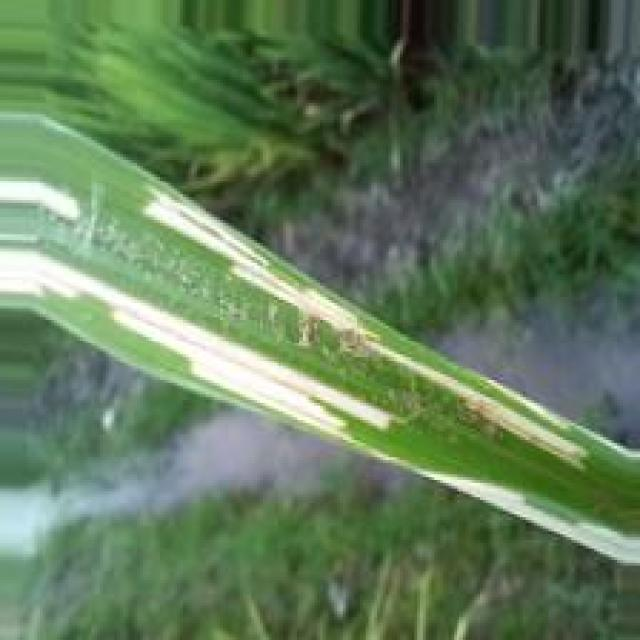Rice_Hispa: (141, 190, 586, 469), (0, 239, 398, 436), (426, 472, 640, 572)
